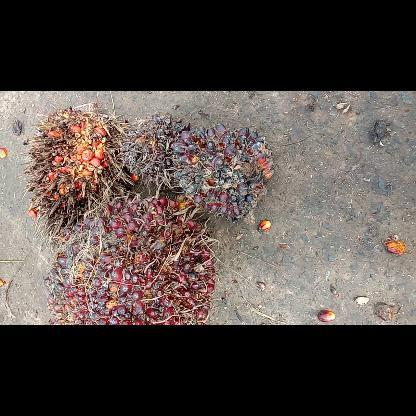TBS abnormal: (172, 120, 278, 226), (120, 110, 190, 188)
TBS masak: (43, 190, 219, 324)
Terlalu masak: (18, 100, 118, 252)
